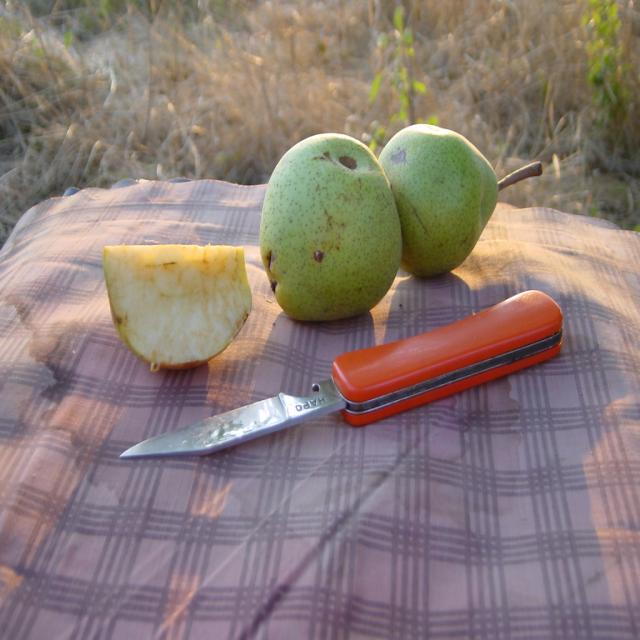apple: (105, 248, 254, 372)
pear: (258, 131, 404, 322), (377, 123, 501, 279)
